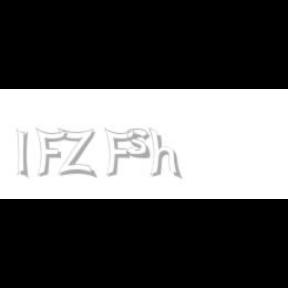F: (35, 128, 67, 178), (104, 128, 136, 178)
Z: (58, 128, 94, 178)
h: (148, 128, 183, 180)
l: (16, 128, 32, 180)
s: (127, 128, 155, 160)
